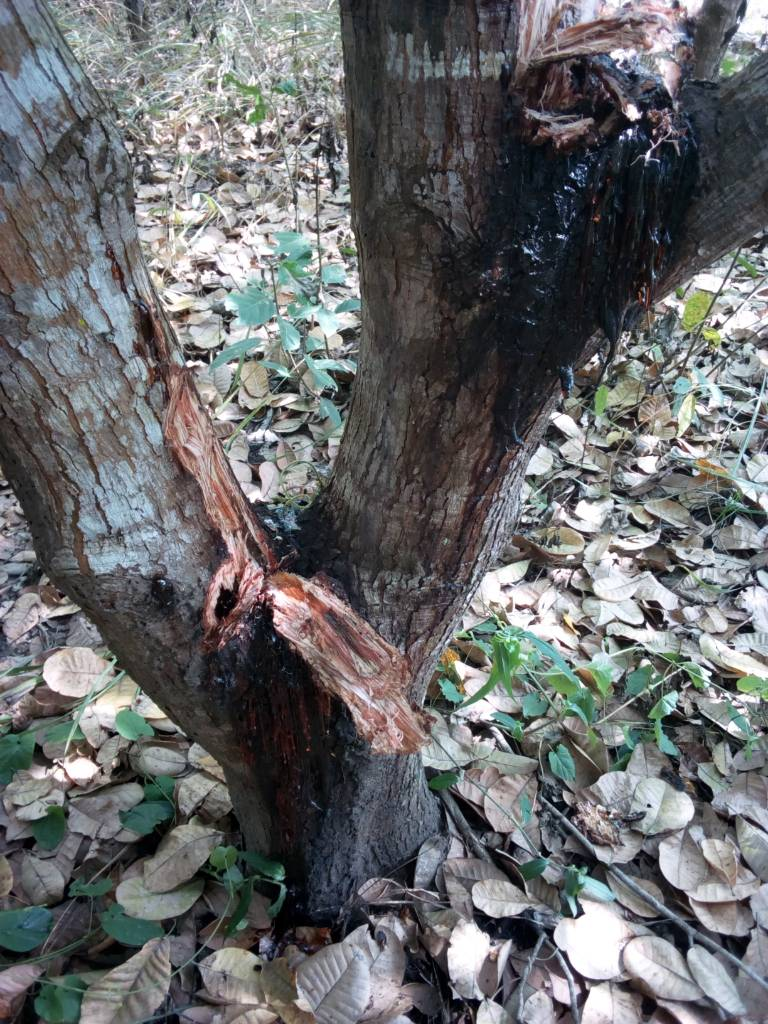Gommose: (472, 55, 691, 435), (207, 500, 388, 889)
